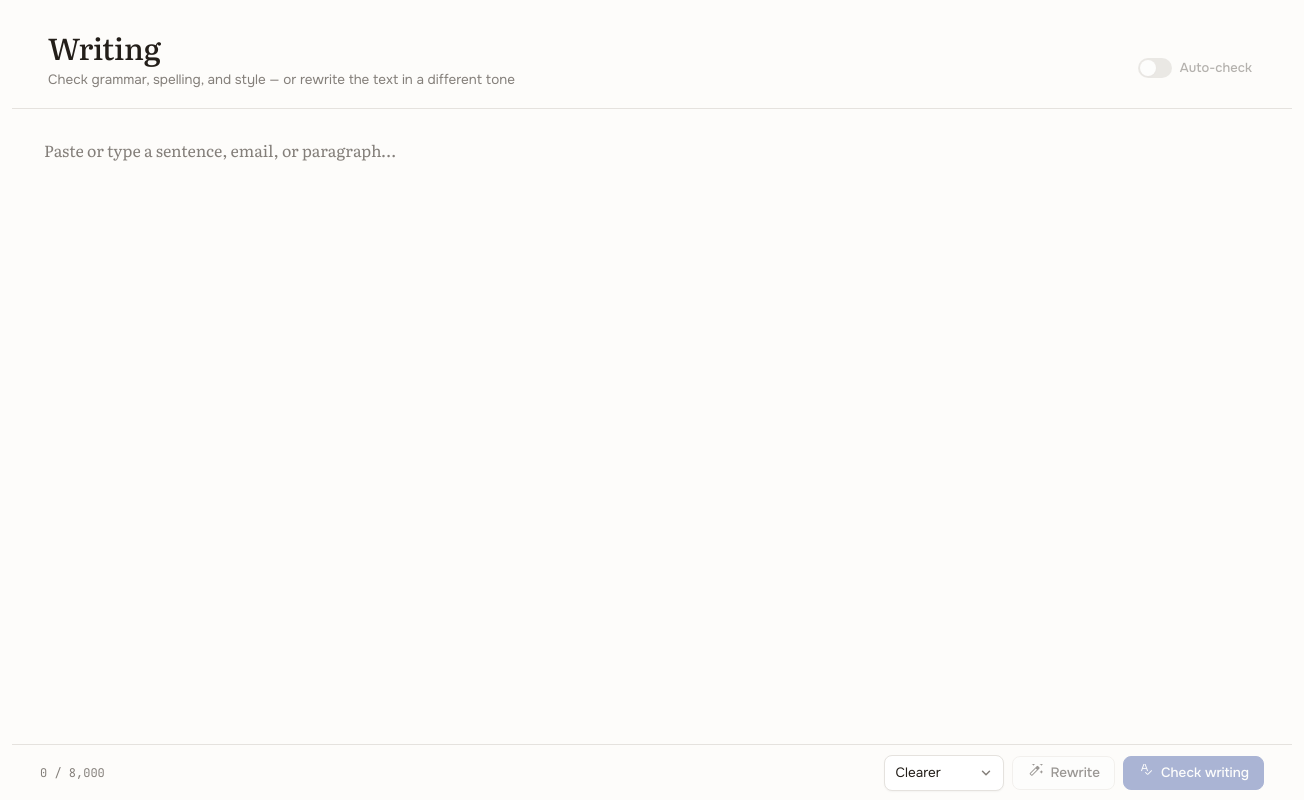
Test: WritingPage › ignores a fix, persists the status and restores the fragment
This screenshot has width=1304, height=800.
Type "he go home" into the text box named "Text to check". click: (652, 426)
box: x1=12 y1=109 x2=1292 y2=744
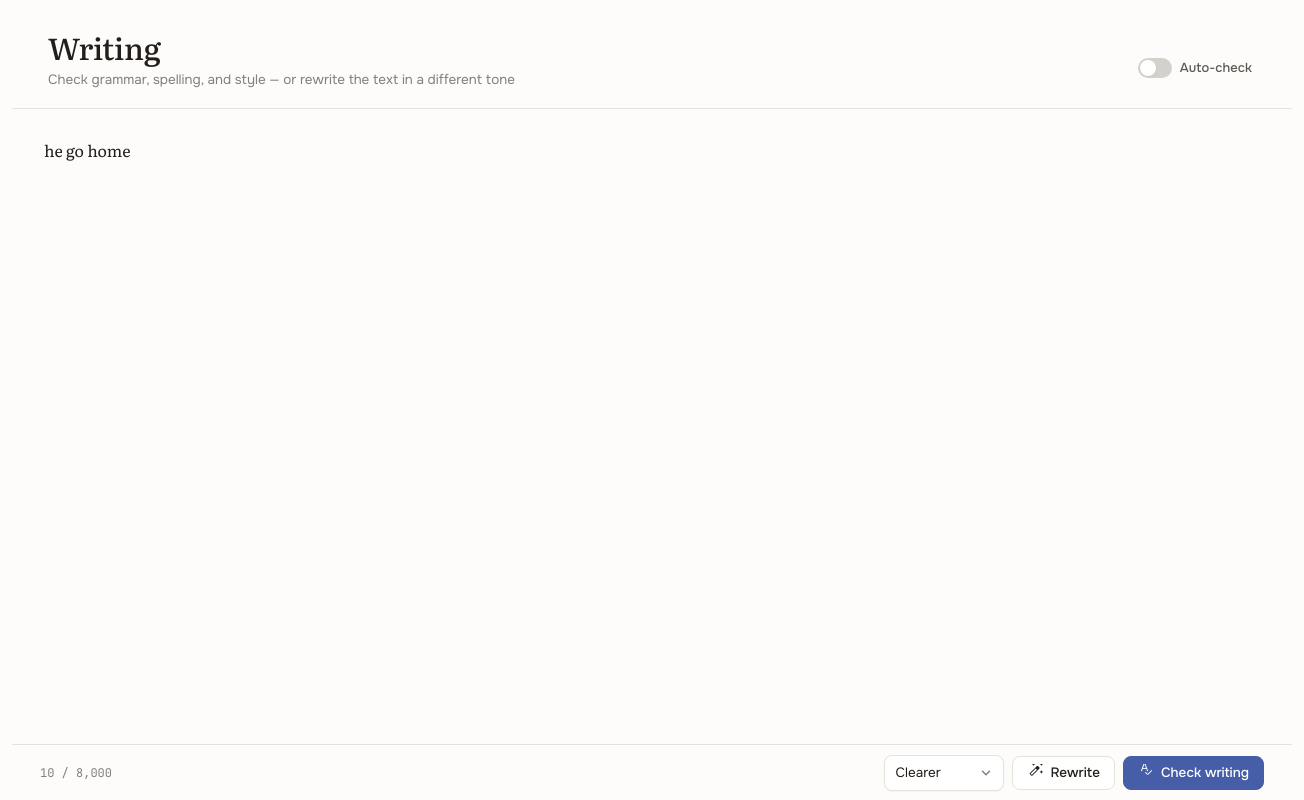
Click the button "Check writing". click: click(1194, 772)
box: x1=1123 y1=756 x2=1264 y2=790
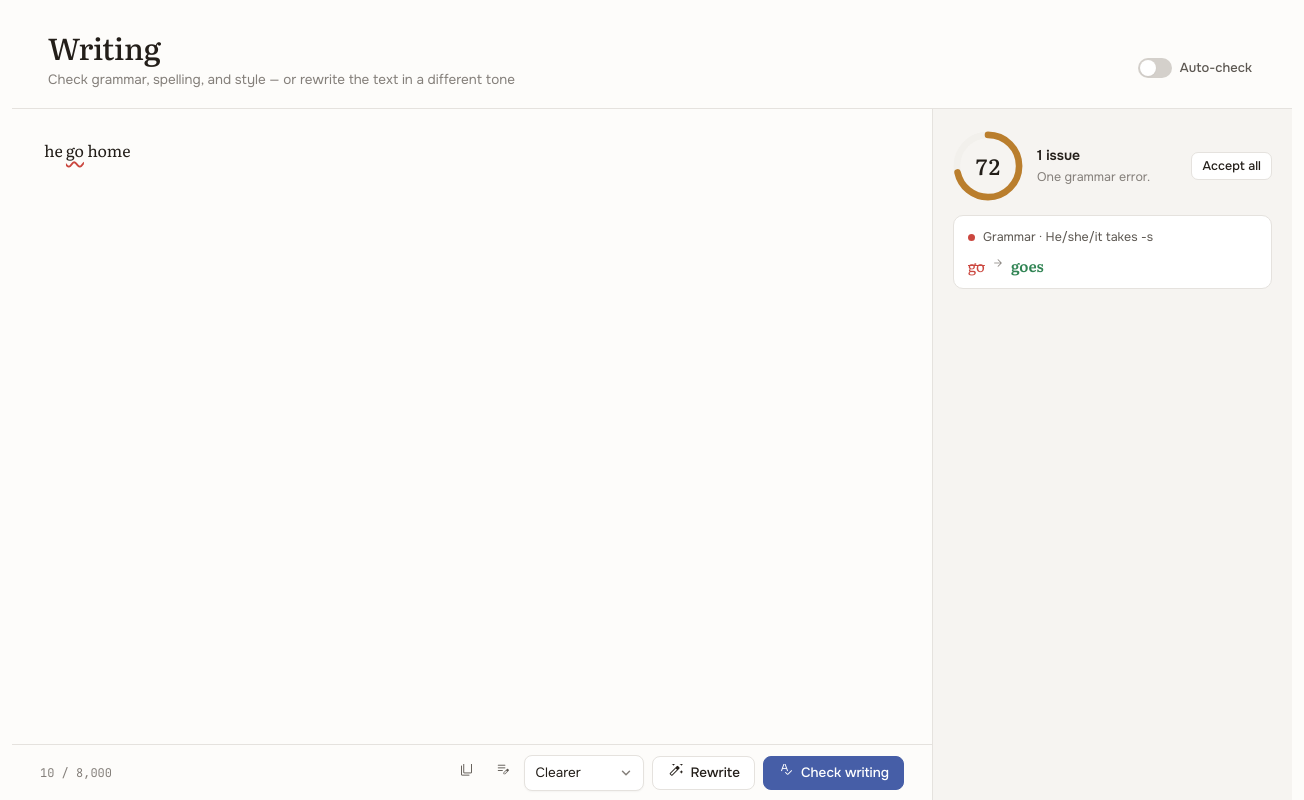
Result: the text "One grammar error." is shown at x1=1037 y1=169 x2=1150 y2=185
Result: the button named "Use suggested text as input" is shown at x1=488 y1=758 x2=516 y2=786
Click the button with aria-label "Issue in". click: click(75, 150)
box: x1=66 y1=137 x2=84 y2=164
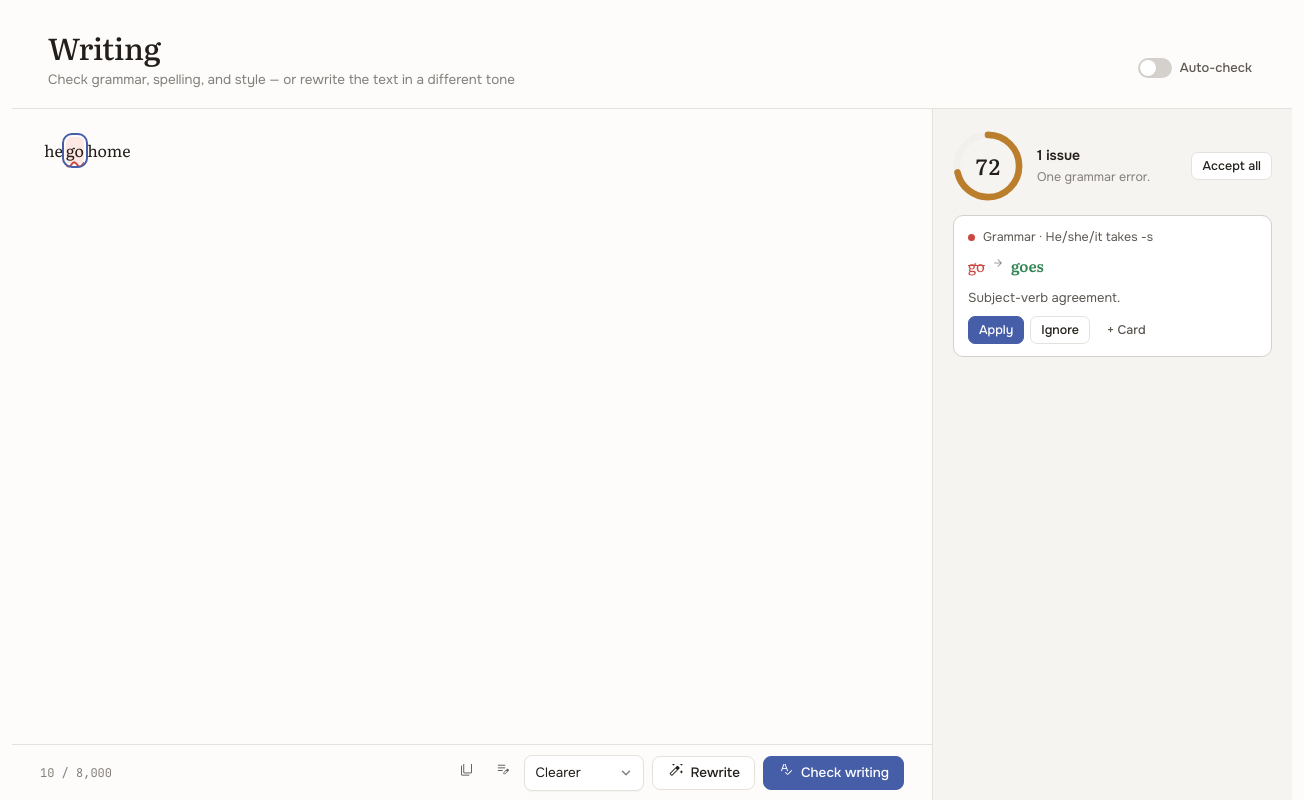
Click the button with aria-label "Ignore issue go". click: click(1060, 330)
box: x1=1030 y1=316 x2=1090 y2=344
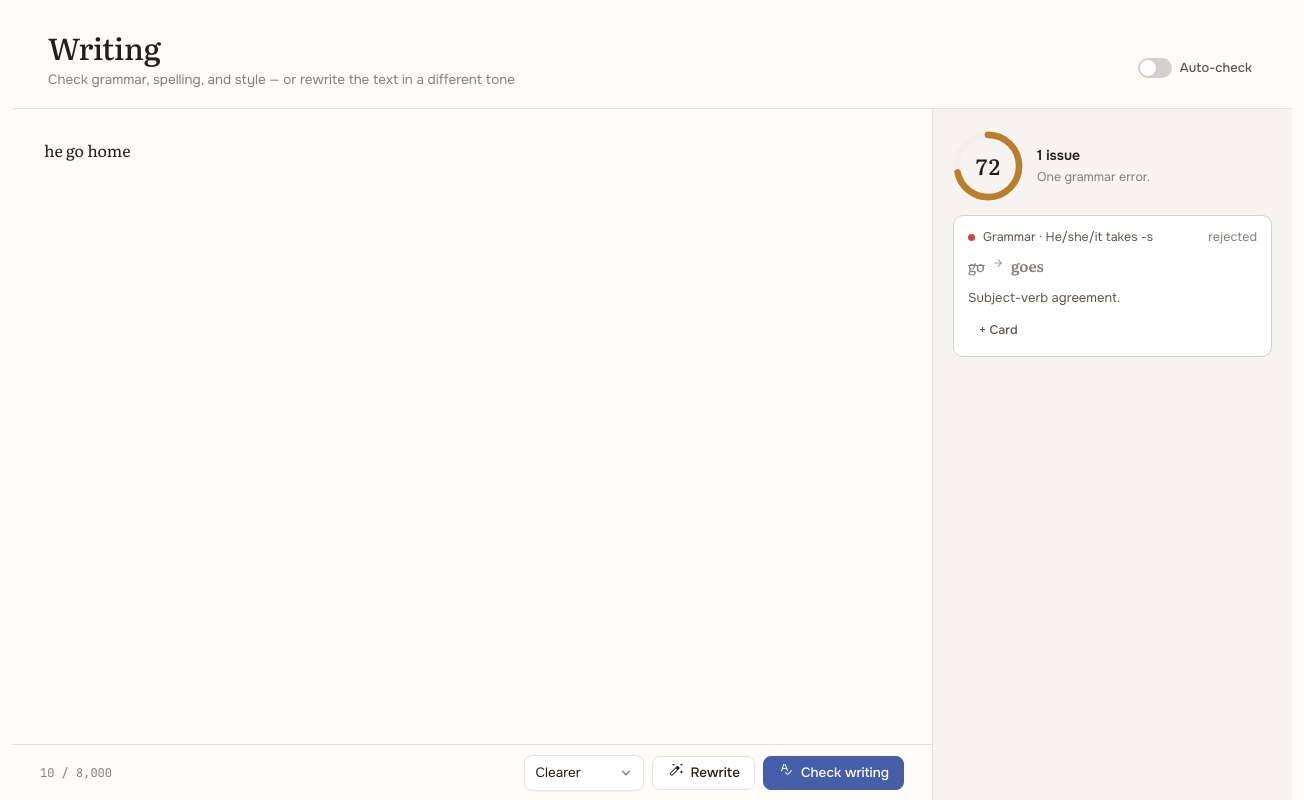
Result: the element named "Original text with issues highlighted" reads "he go home" at x1=44 y1=138 x2=130 y2=162
Result: the button with class "writing-mark" is gone
